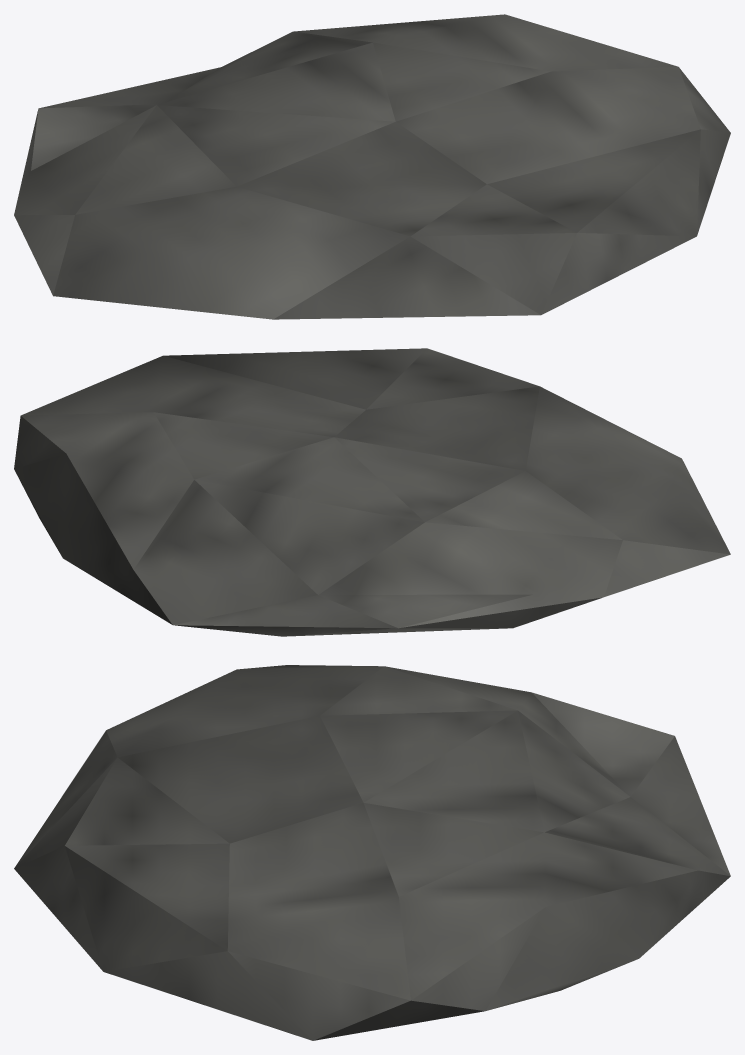
Rendered from SM_Rock_Small03.fbx.
The picture shows the model from 3 angles, top to bottom: view 1: azimuth 30°, elevation 25°; view 2: azimuth 150°, elevation 25°; view 3: azimuth 270°, elevation 25°; orthographic projection. The views are drawn at different scales.
Visible parts, largest first — view 1: SM_Rock_Small03; view 2: SM_Rock_Small03; view 3: SM_Rock_Small03.
Boxes of the visible parts, bbox=[...] form: SM_Rock_Small03: bbox=[14, 14, 730, 319]; SM_Rock_Small03: bbox=[14, 348, 730, 636]; SM_Rock_Small03: bbox=[14, 665, 730, 1040].
Size of the model in its own units: 2.8 by 0.2897 by 2.35.
1 material, 1 textured.
